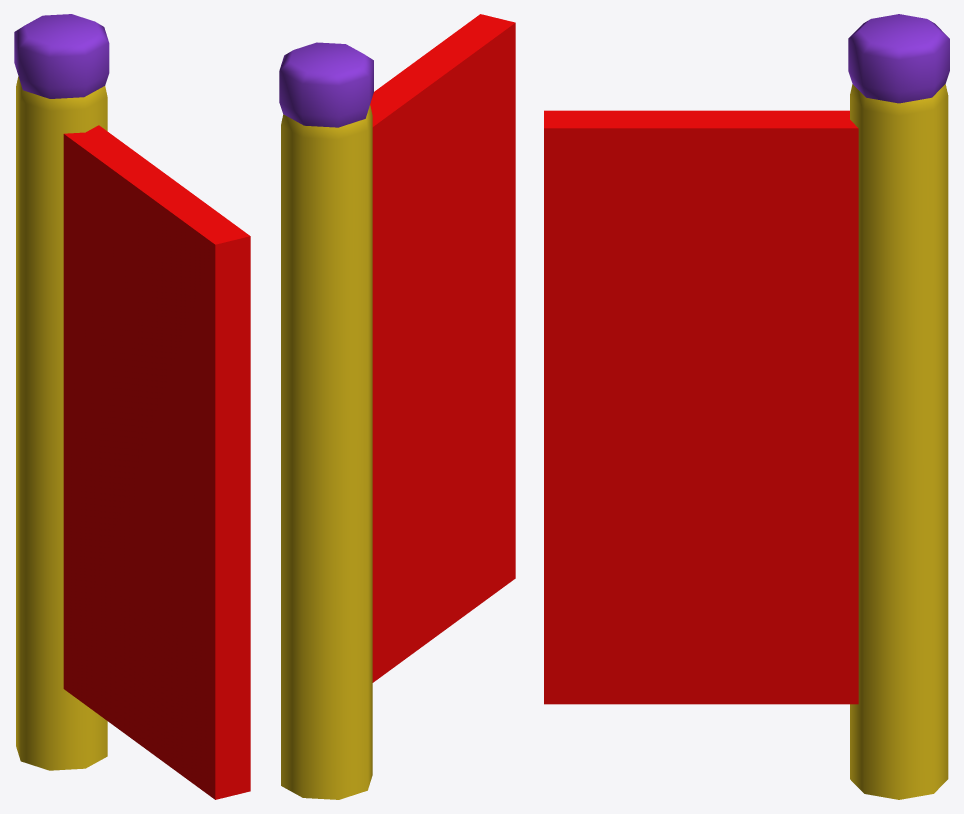
File: tuzak 5.fbx
The picture shows the model from 3 angles, left to right: view 1: azimuth 30°, elevation 25°; view 2: azimuth 150°, elevation 25°; view 3: azimuth 270°, elevation 25°; orthographic projection. The views are drawn at different scales.
Parts seen in each view (by area): view 1: pCube14, pCylinder11; view 2: pCube14, pCylinder11; view 3: pCube14, pCylinder11.
Part boxes in pixels (x1=…): pCube14: x1=63, y1=125, x2=250, y2=799; pCylinder11: x1=14, y1=14, x2=109, y2=770; pCube14: x1=370, y1=14, x2=515, y2=682; pCylinder11: x1=279, y1=42, x2=373, y2=799; pCube14: x1=544, y1=110, x2=858, y2=704; pCylinder11: x1=848, y1=14, x2=949, y2=799.
Size of the model in its own units: 0.6593 by 5.35 by 2.63.
